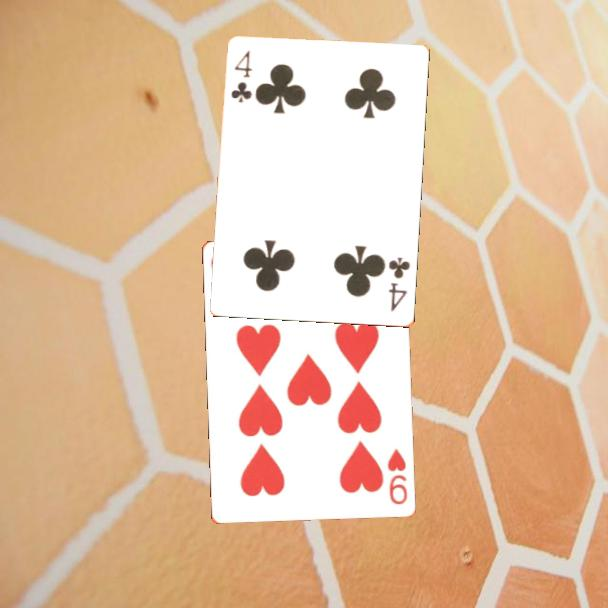c04: (385, 254, 413, 314), (228, 47, 255, 106)
h09: (384, 445, 410, 508)
